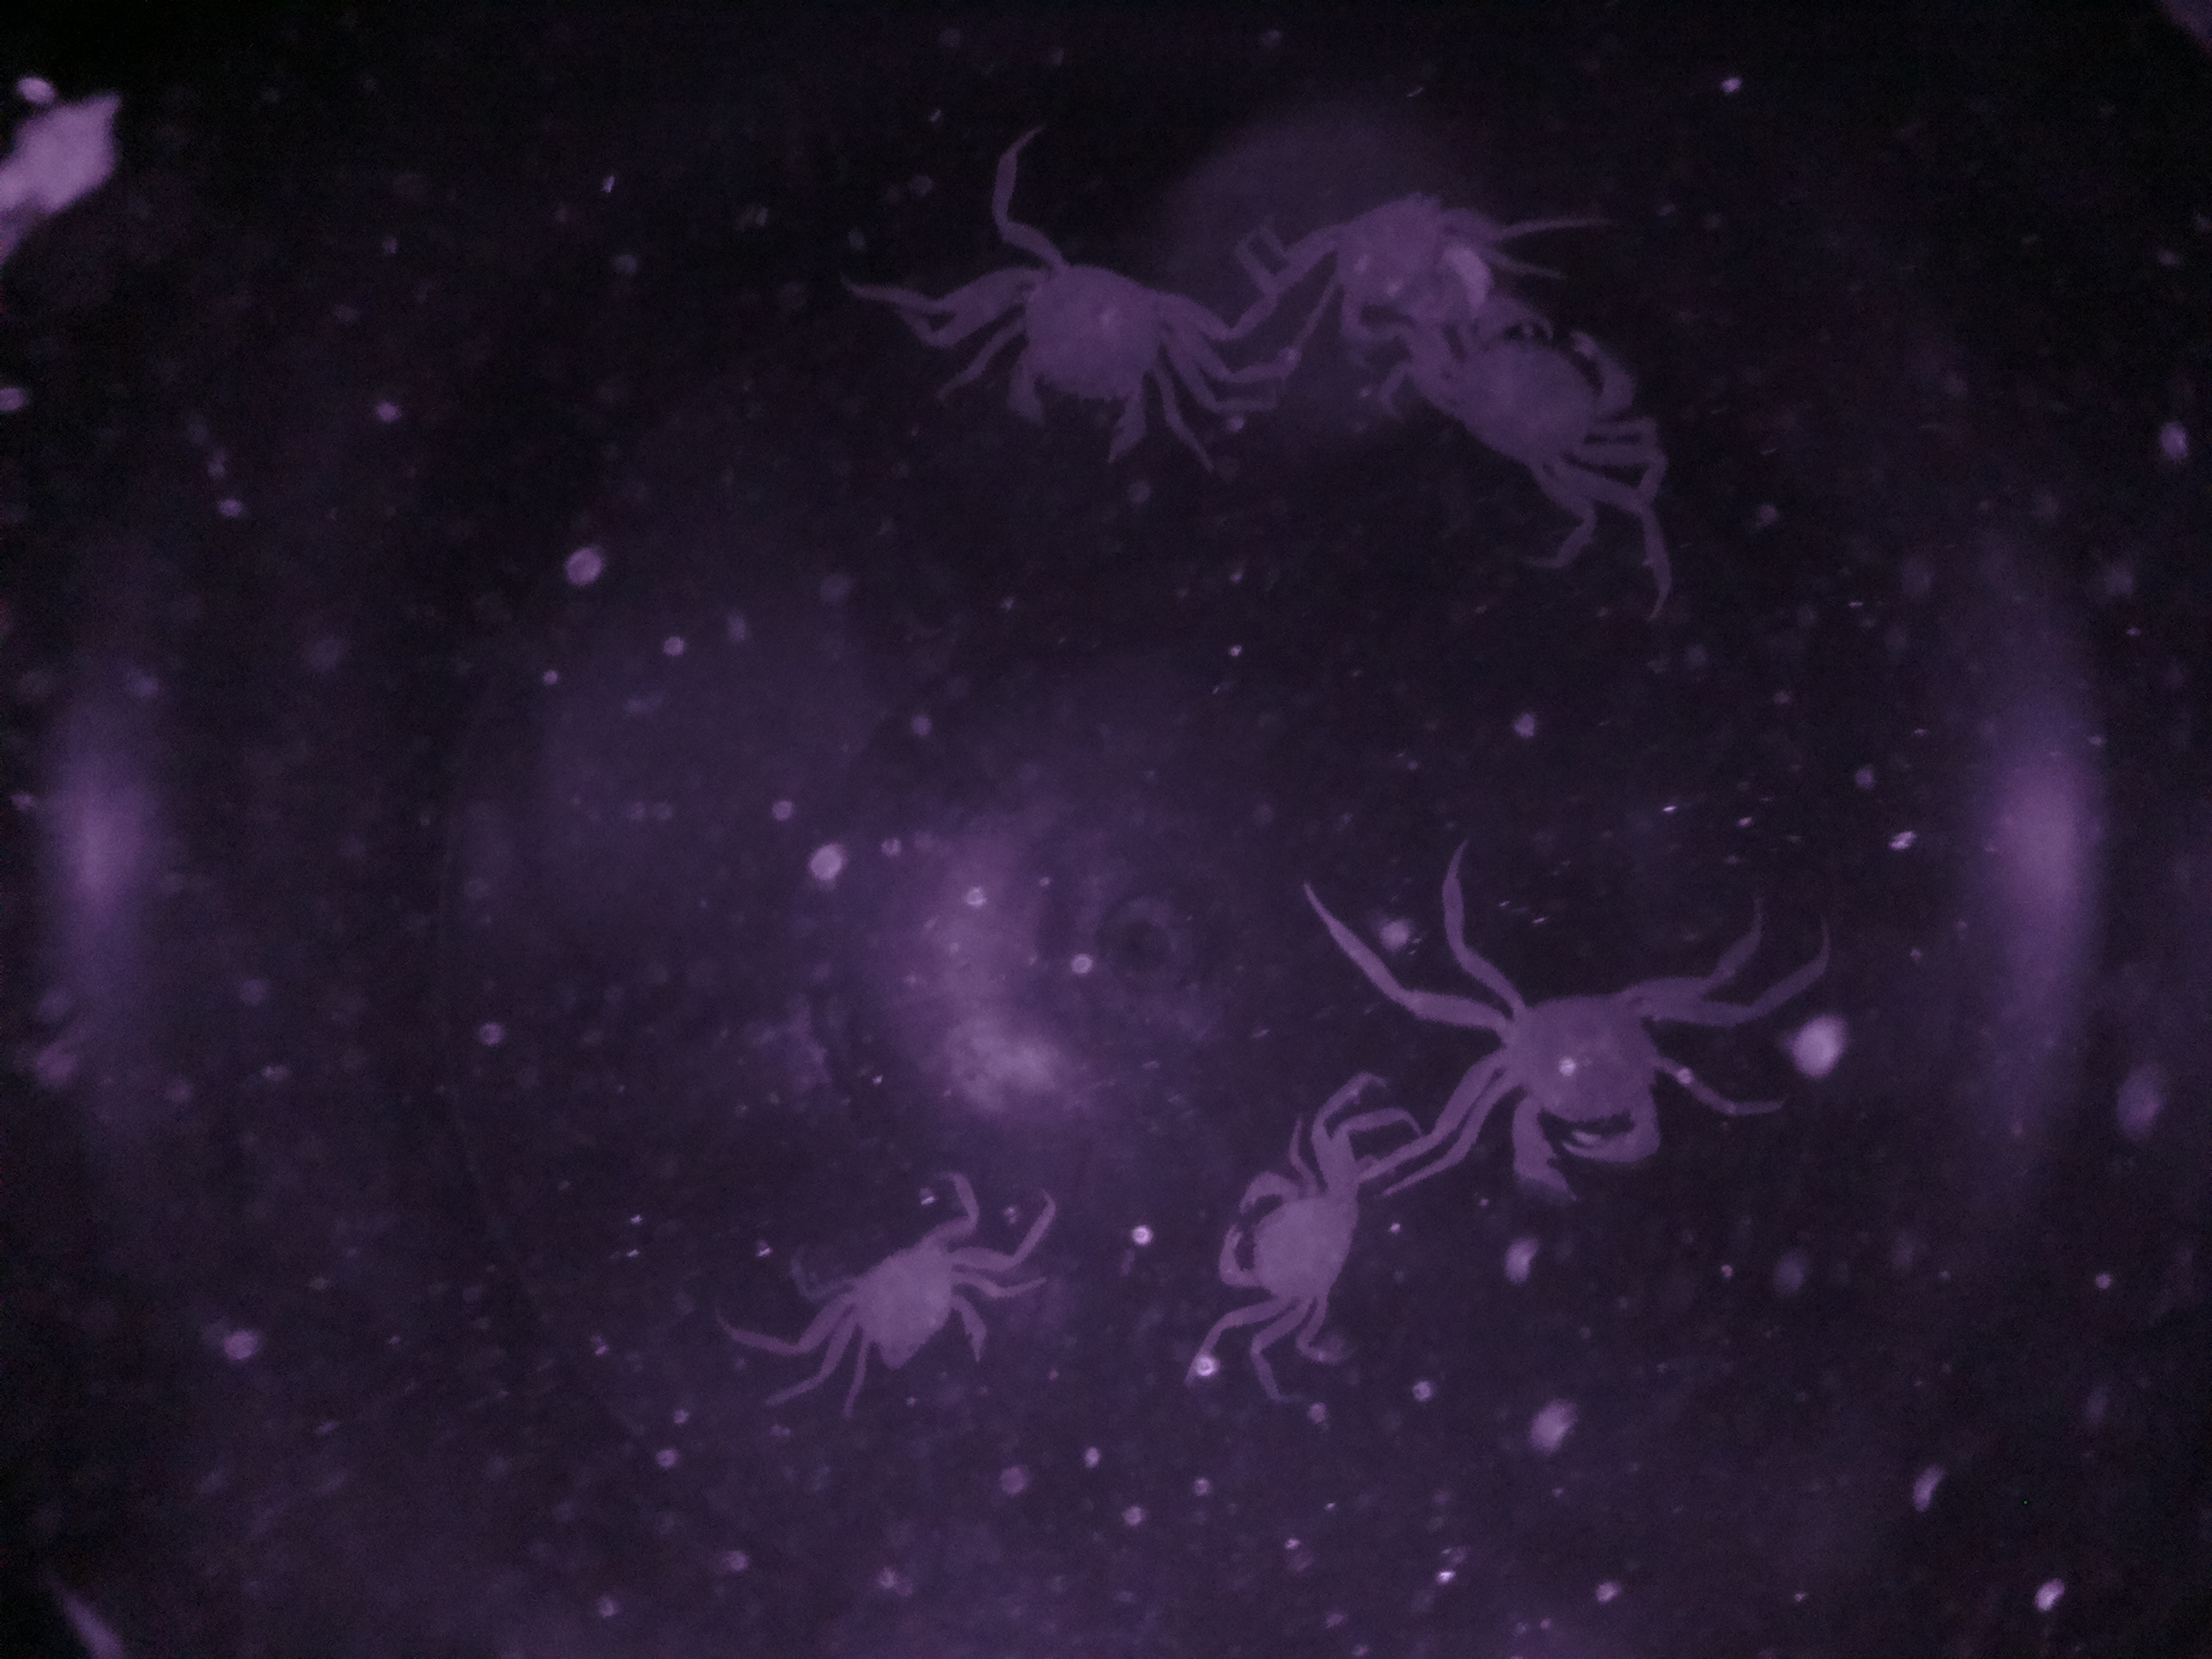Crab: (1416, 962, 1763, 1209), (789, 1215, 1024, 1419), (1214, 1122, 1404, 1354)
